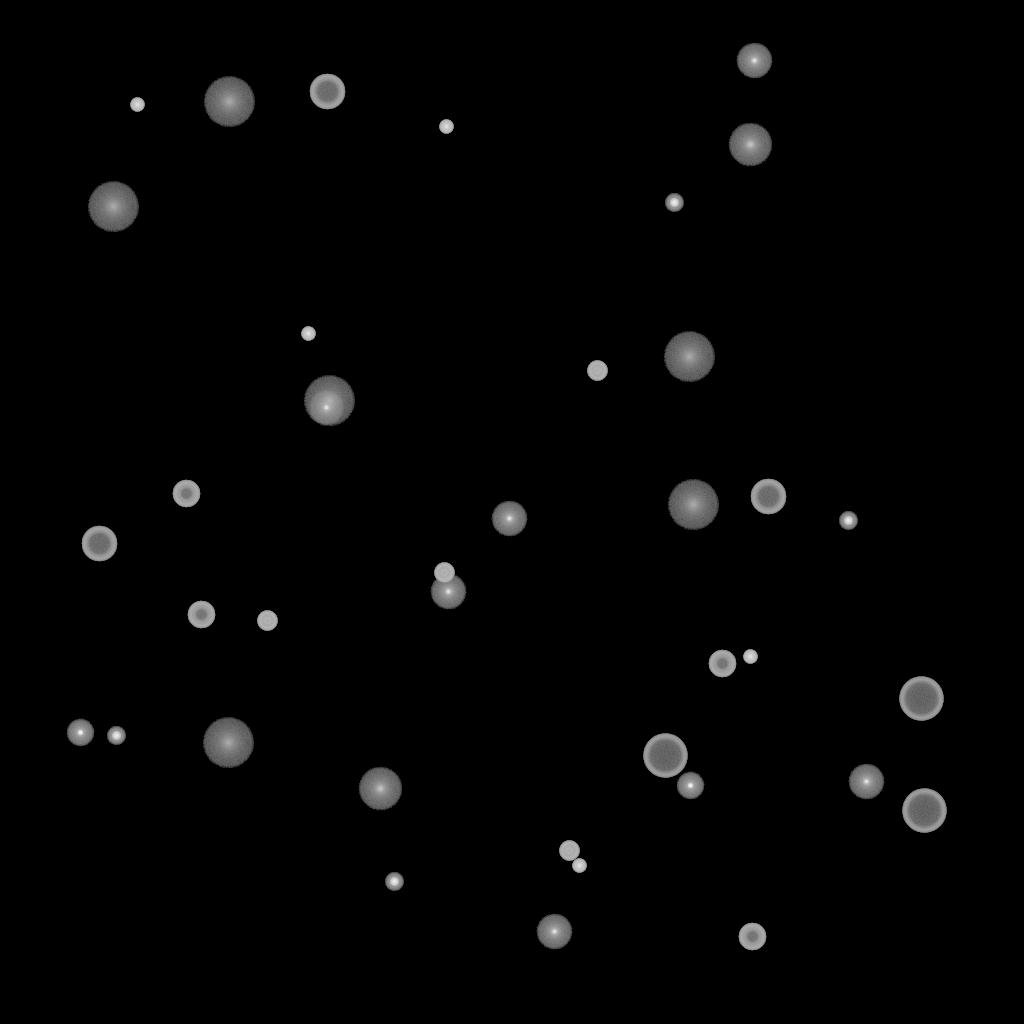depth:-10: (676, 772, 704, 800), (66, 719, 94, 747)
depth:-20: (665, 194, 683, 212), (385, 873, 403, 891), (107, 727, 125, 745), (839, 512, 857, 530)
depth:-30: (439, 120, 453, 134), (130, 98, 144, 112), (572, 859, 586, 873), (743, 650, 757, 664), (301, 327, 315, 341)
depth:-40: (587, 361, 607, 381), (257, 611, 277, 631), (434, 563, 454, 583), (559, 841, 579, 861)
depth:-50: (172, 480, 200, 508), (708, 650, 736, 678), (738, 923, 766, 951), (187, 601, 215, 629)
depth:-60: (750, 479, 786, 515), (81, 526, 117, 562), (309, 74, 345, 110)
depth:-70: (902, 789, 946, 833), (899, 677, 943, 721), (643, 734, 687, 778)
depth:0: (736, 43, 772, 79), (308, 390, 344, 426), (491, 501, 527, 537), (430, 574, 466, 610), (536, 914, 572, 950), (848, 764, 884, 800)
depth:10: (728, 123, 772, 167), (358, 767, 402, 811)
depth:20: (87, 182, 139, 232), (667, 480, 719, 530), (202, 718, 254, 768), (203, 77, 255, 127), (663, 332, 715, 382), (303, 376, 355, 426)
